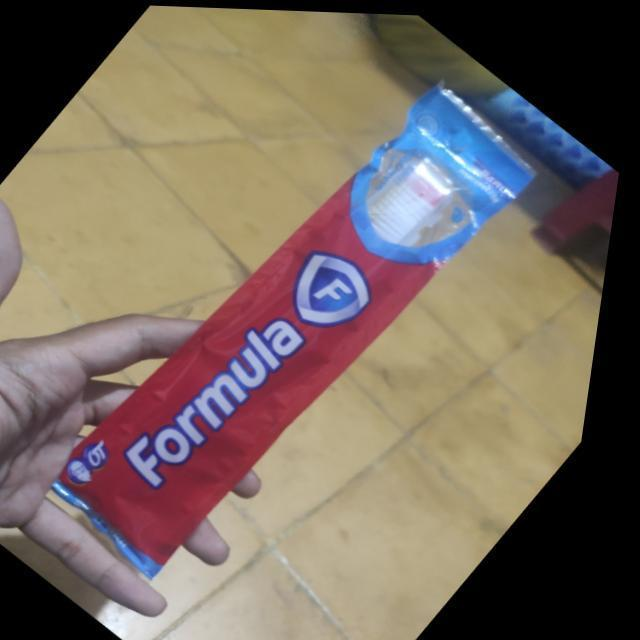toothbrush: (101, 139, 476, 537)
